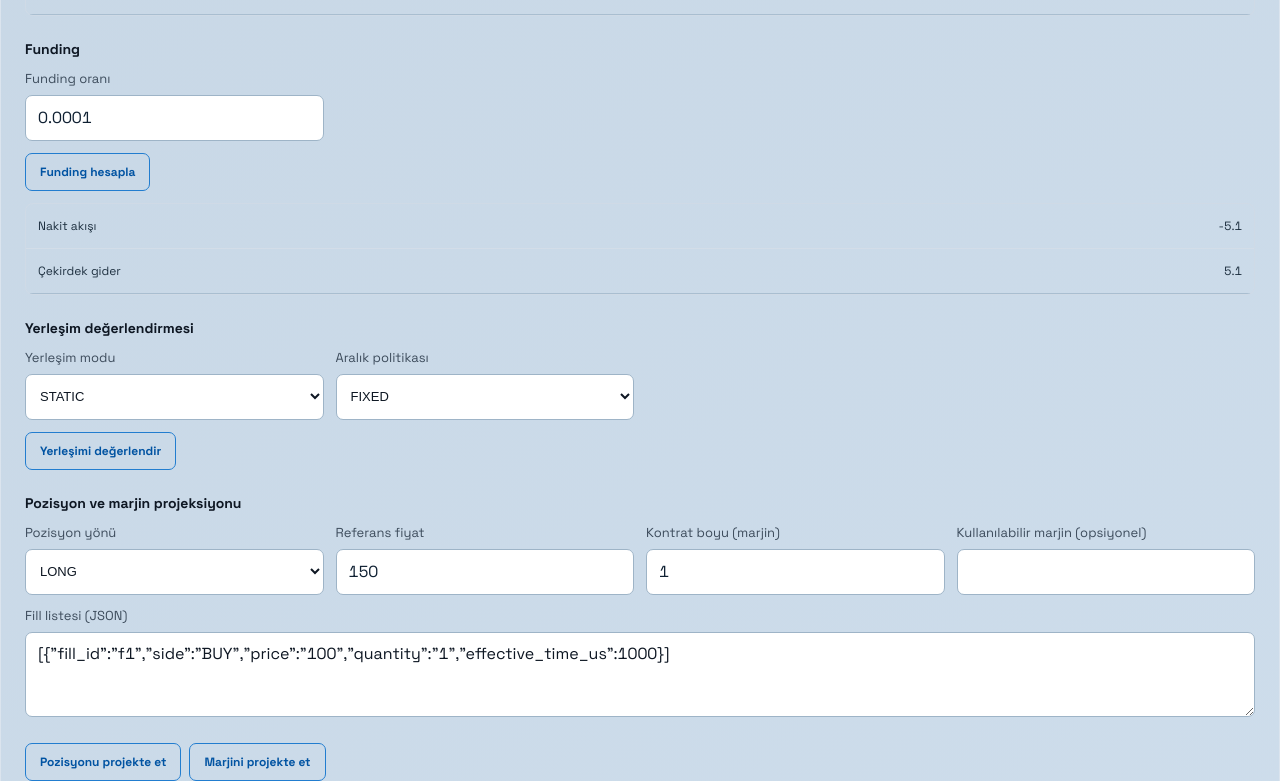
FuturesPanel grid bot akışı (Faz 12.3) › yerleşim değerlendirmesi sunucudan alınır
(page scrolled)
Click the button "Yerleşimi değerlendir".
click(101, 451)  # box x1=25 y1=432 x2=176 y2=470
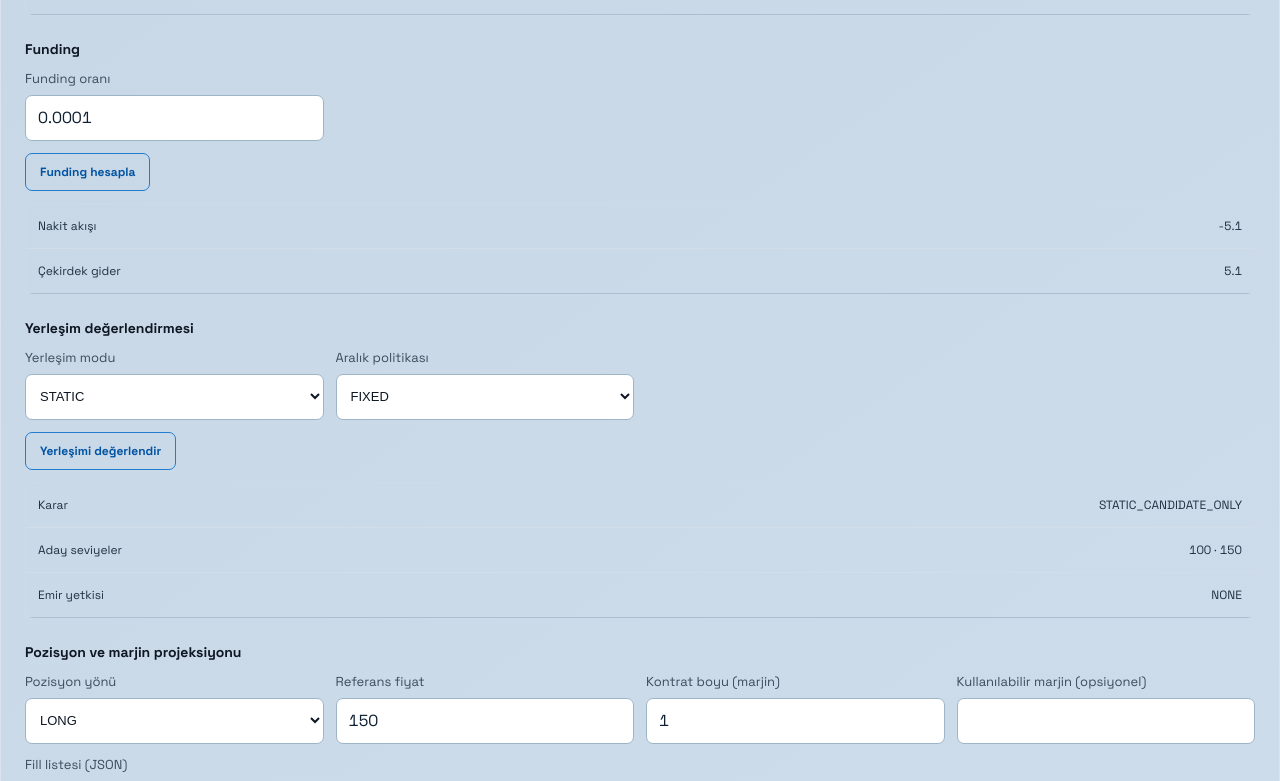
Now the text "STATIC_CANDIDATE_ONLY" is shown, box x1=508 y1=483 x2=1254 y2=527
